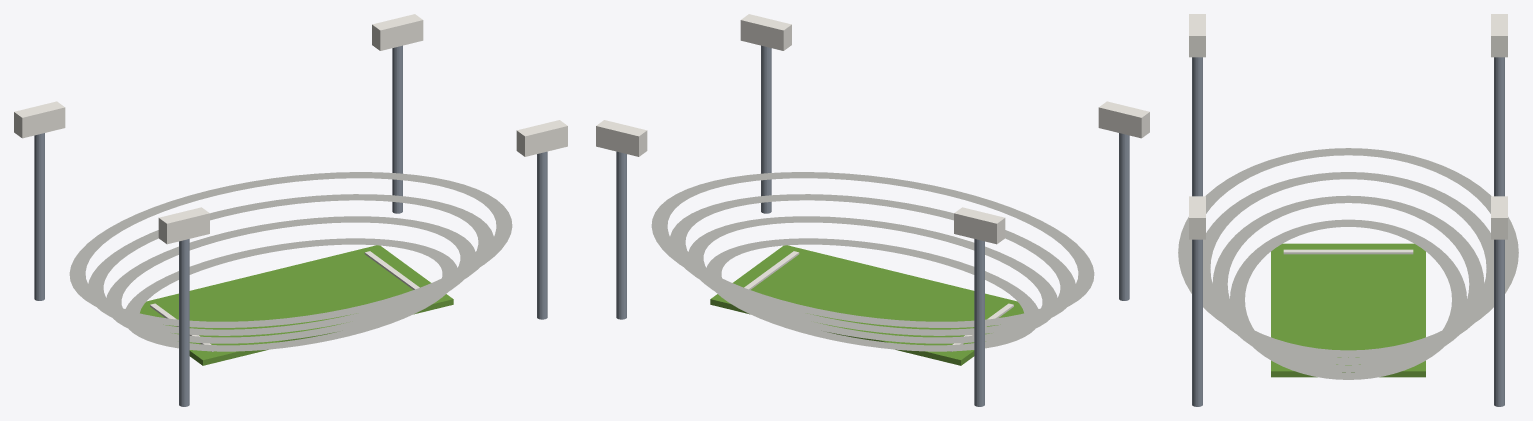
File: building_stadium.fbx
3 renders of one model, left to right at view 1: azimuth 30°, elevation 25°; view 2: azimuth 150°, elevation 25°; view 3: azimuth 270°, elevation 25°, orthographic. The views are drawn at different scales.
Parts seen in each view (by area): view 1: building_stadium; view 2: building_stadium; view 3: building_stadium.
Boxes of the visible parts, <box> form: building_stadium: <box>14,14,567,406</box>; building_stadium: <box>596,14,1149,406</box>; building_stadium: <box>1178,14,1518,406</box>.
Size of the model in its own units: 115 by 50.5 by 79.
